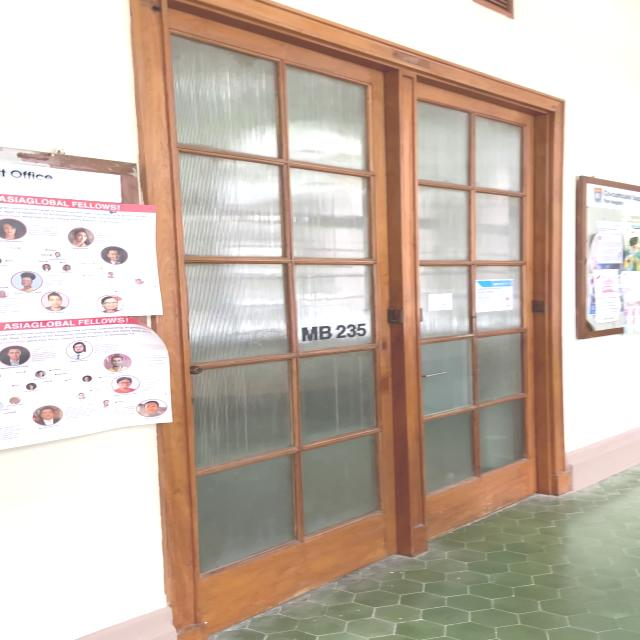room235Window: (298, 321, 373, 343)
